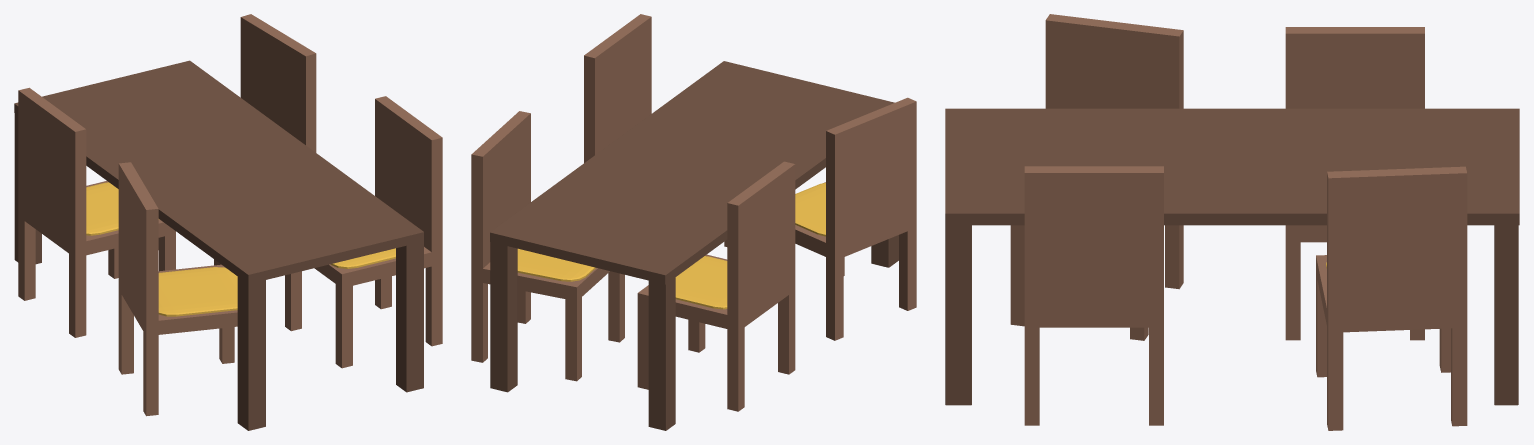
Rendered from Dining Table.fbx.
The picture shows the model from 3 angles, left to right: view 1: azimuth 30°, elevation 25°; view 2: azimuth 150°, elevation 25°; view 3: azimuth 270°, elevation 25°; orthographic projection. The views are drawn at different scales.
Visible parts, largest first — view 1: Cube.002; view 2: Cube.002; view 3: Cube.002.
Part boxes in pixels (bbox=[...]): Cube.002: bbox=[14, 14, 442, 430]; Cube.002: bbox=[471, 14, 916, 430]; Cube.002: bbox=[945, 14, 1519, 430].
Bounding box in the file's own units: 212 × 153 × 300.
